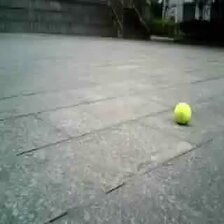tennis: (175, 103, 191, 123)
